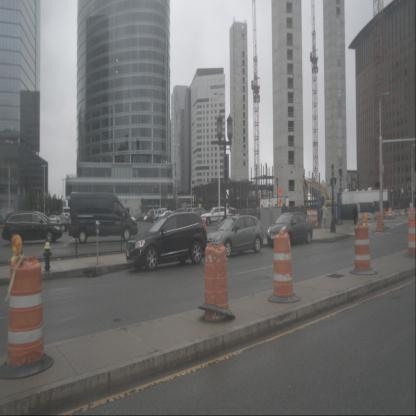cone: (0, 254, 54, 380), (198, 241, 235, 322), (267, 230, 301, 303), (349, 223, 378, 275), (404, 217, 416, 258), (376, 213, 383, 232), (408, 208, 413, 221), (381, 208, 386, 218), (388, 208, 392, 219), (413, 208, 415, 219)
